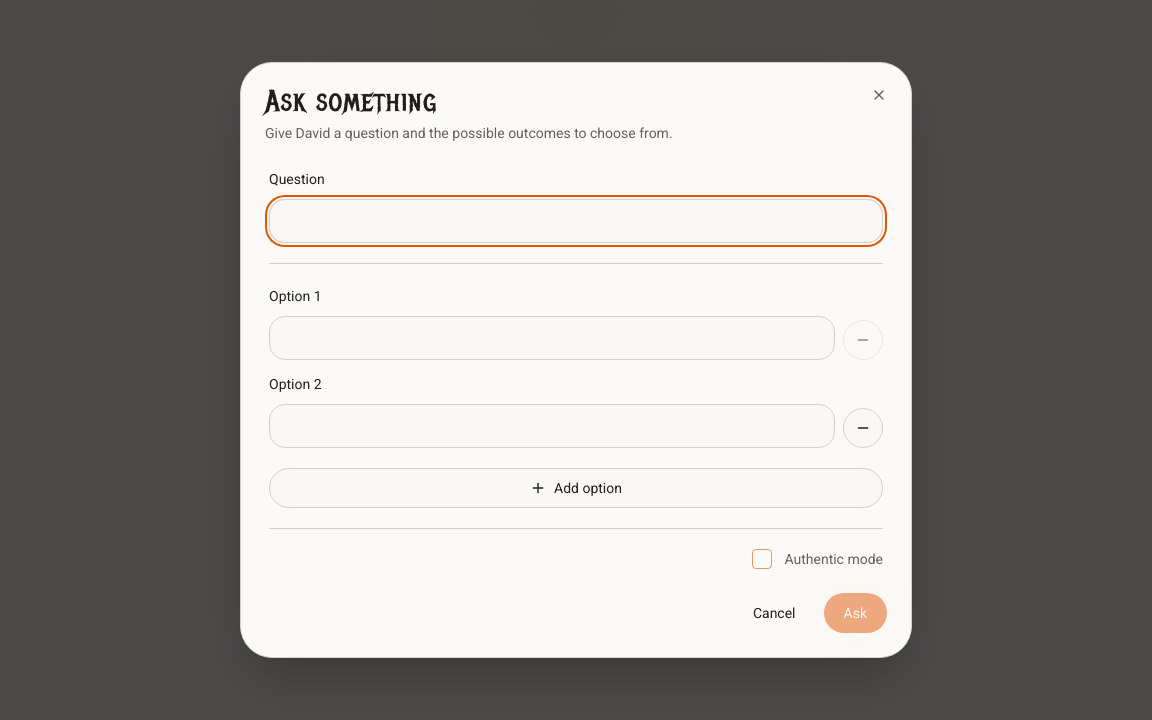
it: should remove options
Step 1. Click the 2nd button named "remove option" → (863, 428), box 843,408 -> 883,448
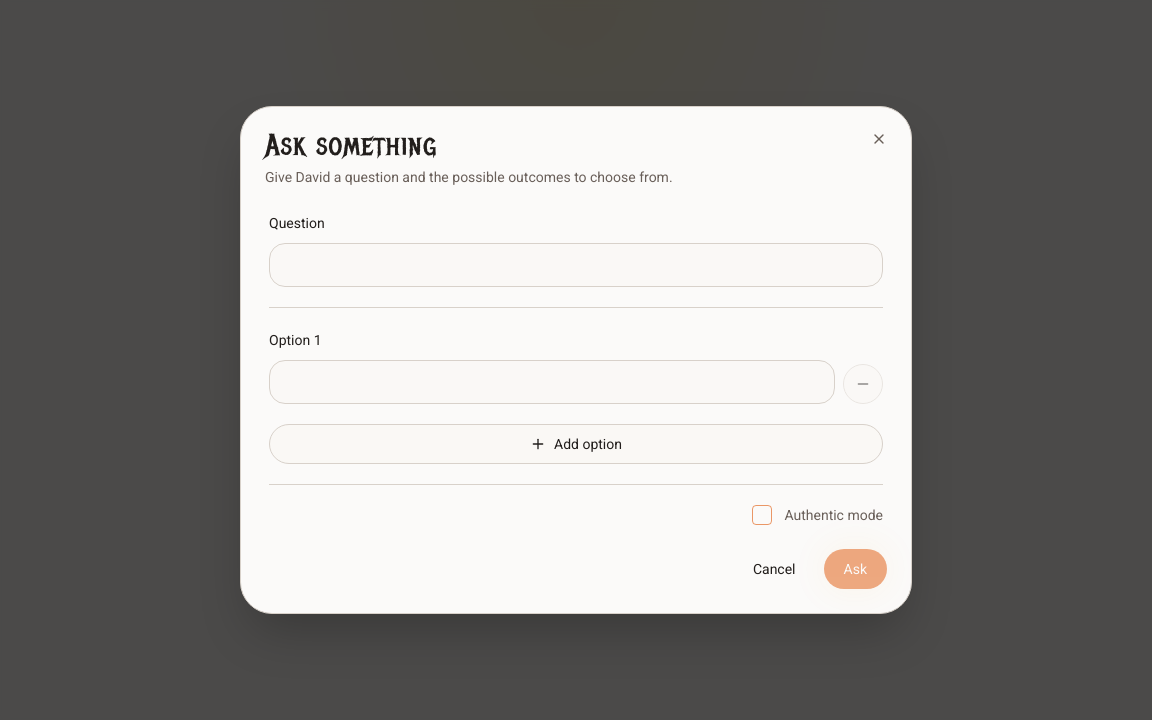
Result: the label labelled "Option 2" is gone
